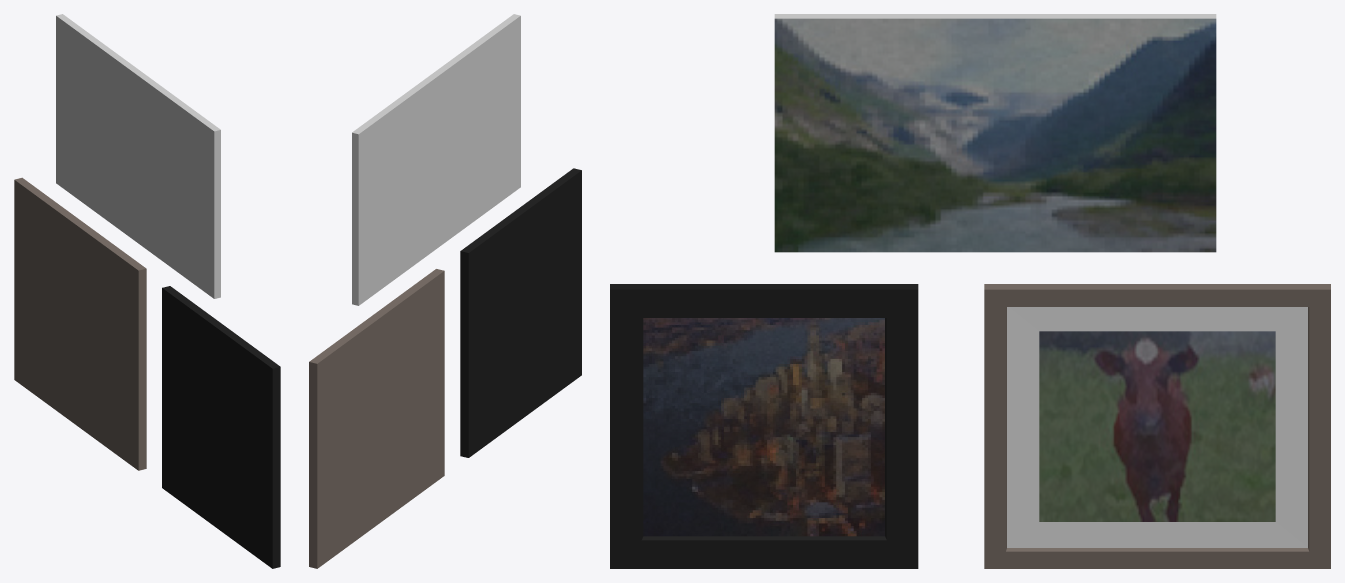
3 views of the same model, side by side, from view 1: azimuth 30°, elevation 25°; view 2: azimuth 150°, elevation 25°; view 3: azimuth 270°, elevation 25° (orthographic). The views are drawn at different scales.
Parts seen in each view (by area): view 1: Nature, Cow, City; view 2: Nature, Cow, City; view 3: Nature, Cow, City.
Part boxes in pixels (x1=…): Nature: x1=56, y1=14, x2=220, y2=298; Cow: x1=14, y1=177, x2=146, y2=470; City: x1=162, y1=286, x2=280, y2=568; Nature: x1=352, y1=14, x2=520, y2=305; Cow: x1=309, y1=269, x2=444, y2=568; City: x1=460, y1=168, x2=581, y2=457; Nature: x1=774, y1=14, x2=1216, y2=252; Cow: x1=984, y1=284, x2=1330, y2=568; City: x1=610, y1=284, x2=918, y2=568.
Size of the model in its own units: 0.0189 by 0.8857 by 1.05.
7 materials, 3 textured.
